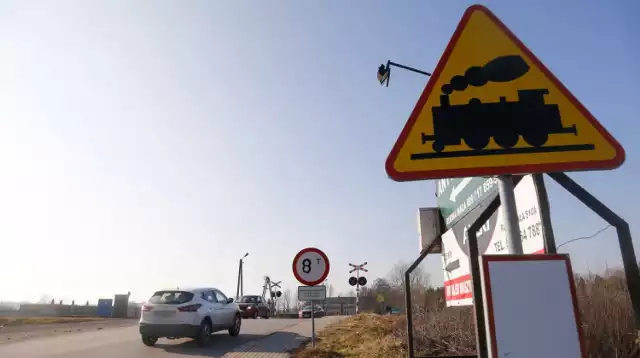a10: (404, 53, 605, 160)
